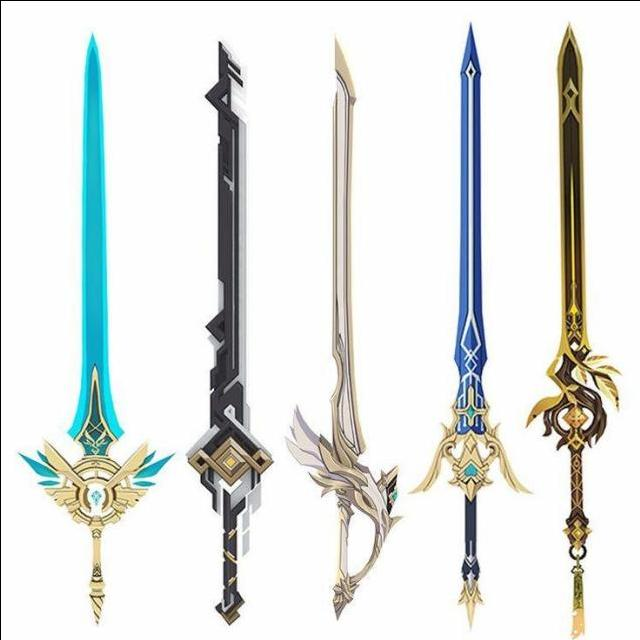sword: (23, 28, 161, 633), (290, 22, 404, 627), (413, 18, 524, 631), (526, 16, 619, 637), (182, 23, 275, 631)
